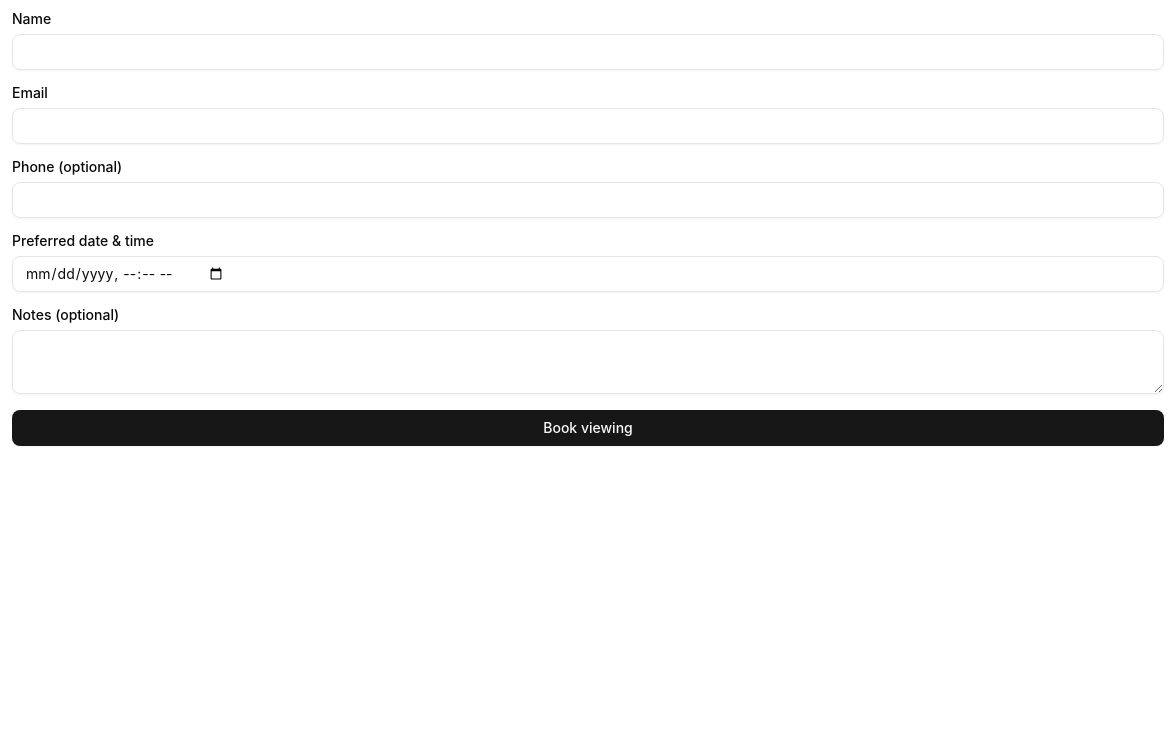
BookViewingForm › blocks submission and shows errors when required fields are empty
Step 1. Click the button "Book viewing" → (588, 428), box [12,410,1164,446]
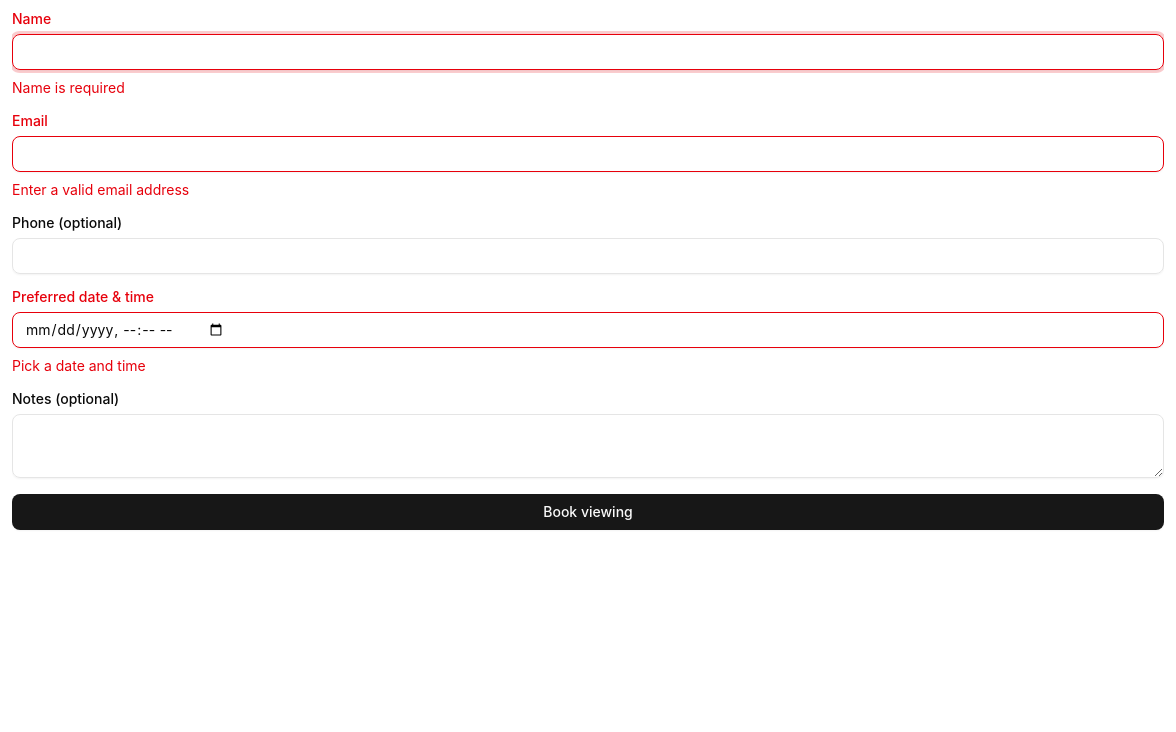
Expected: the text "Name is required" is shown, [12,79,125,96]
Expected: the text "Enter a valid email address" is shown, [12,181,189,198]
Expected: the text "Pick a date and time" is shown, [12,357,146,374]
